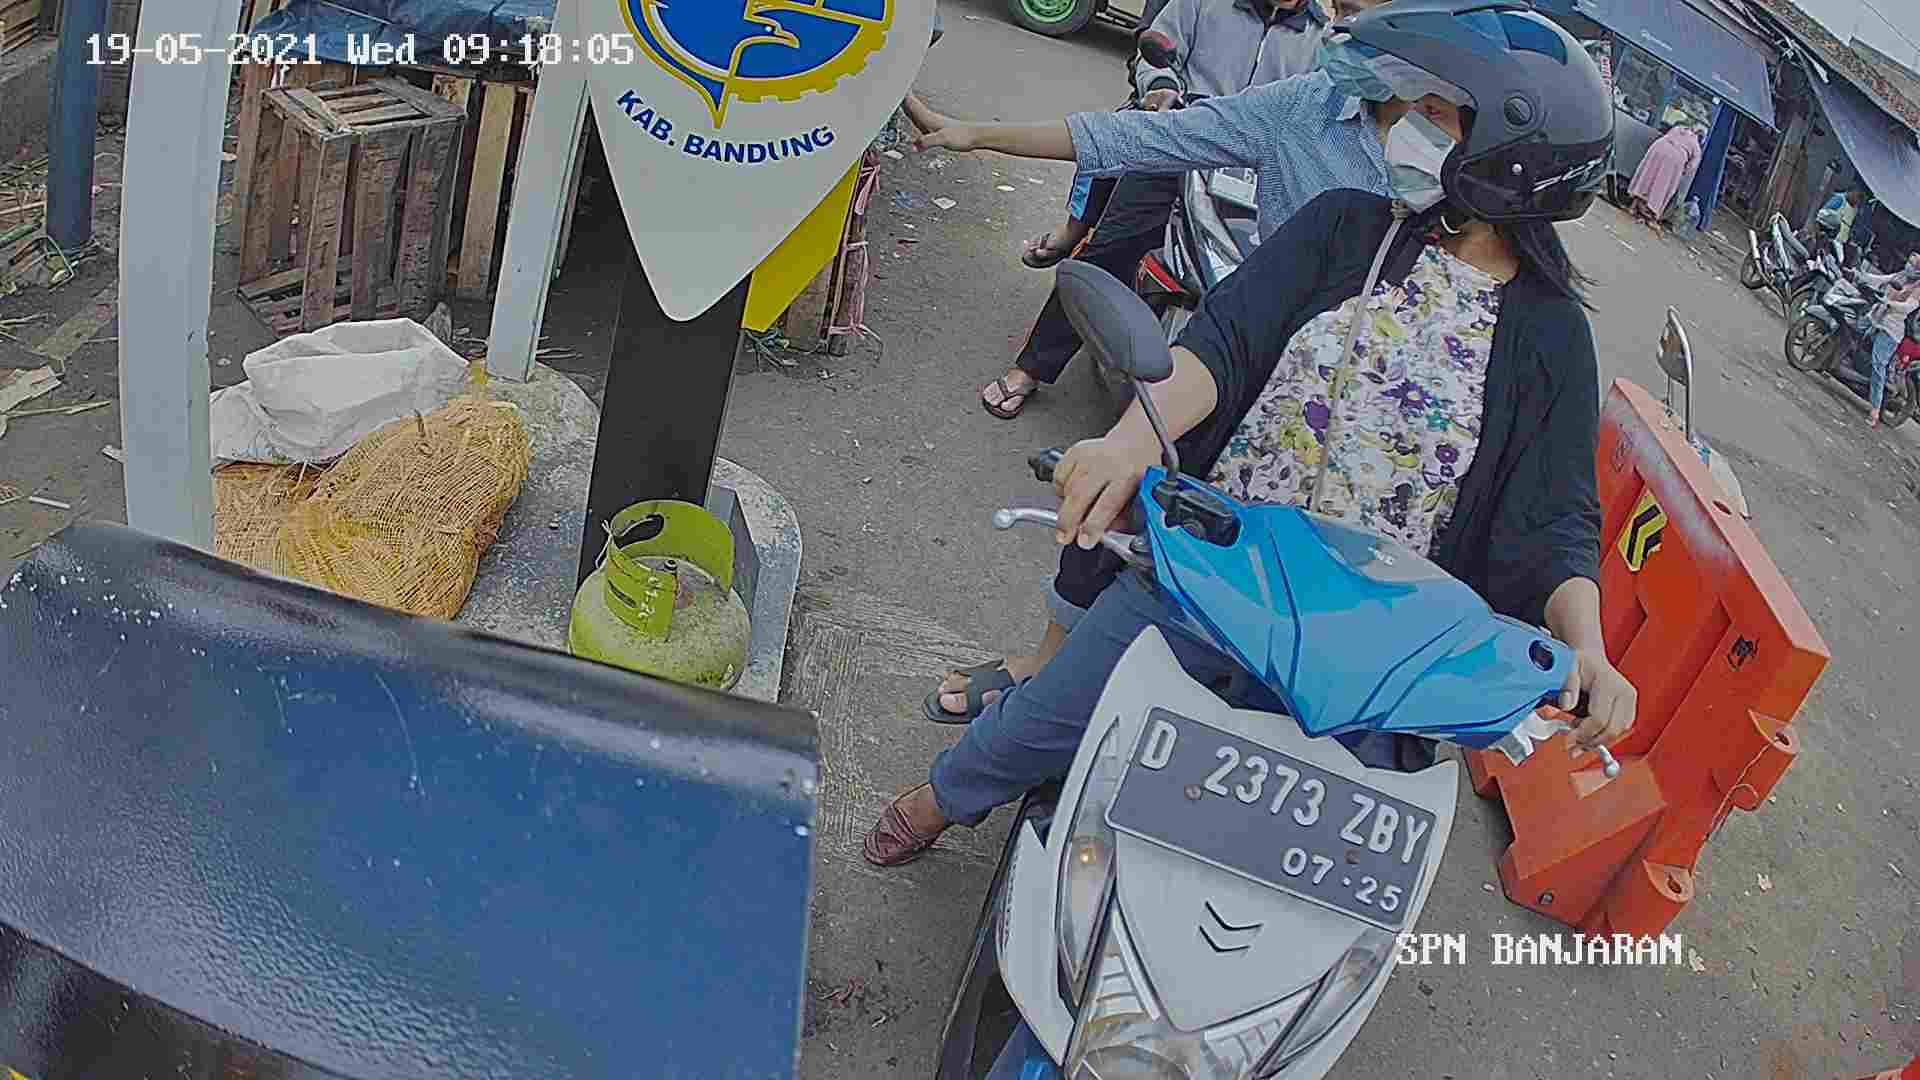motor: (978, 439, 1553, 1080)
